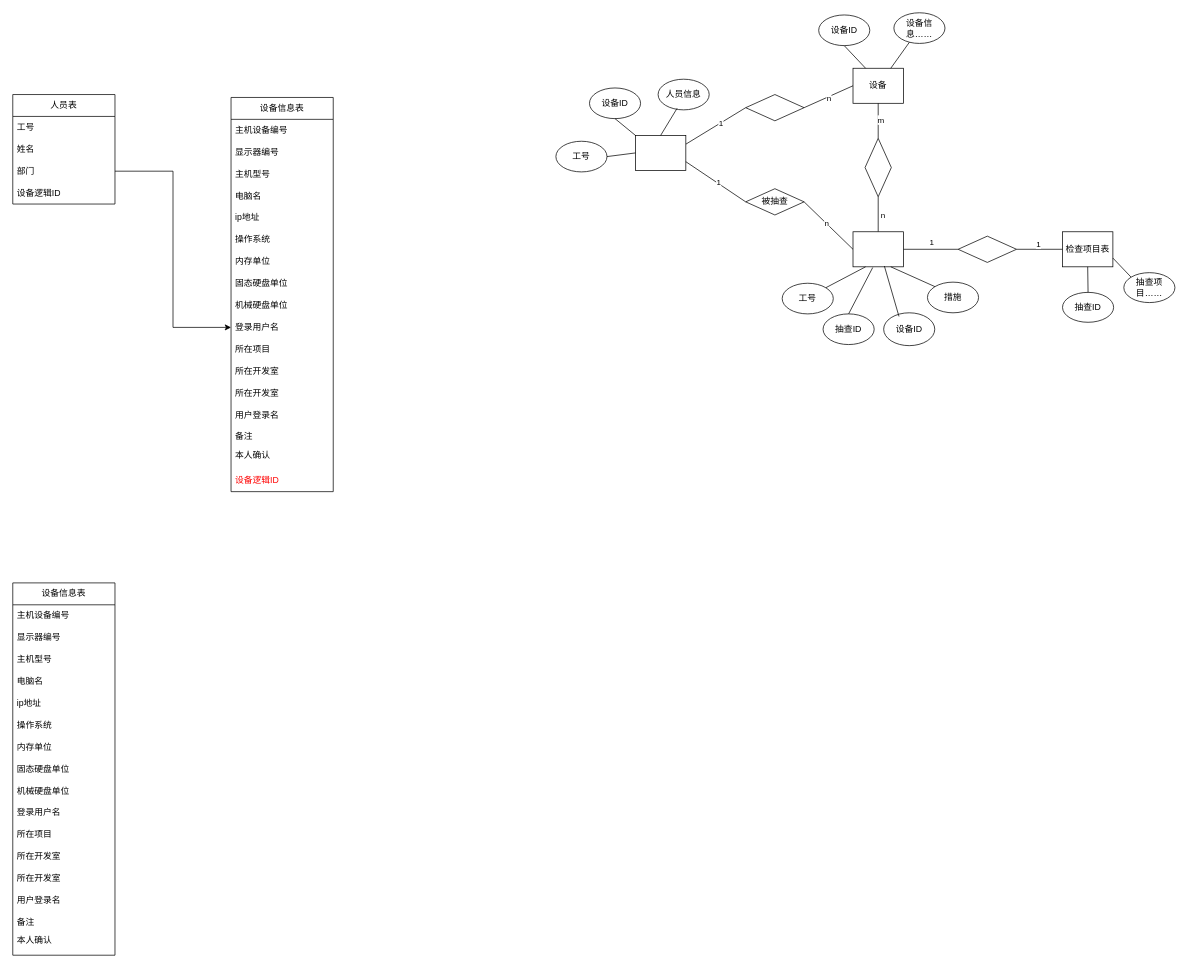
This 1188x968 diagram has some shape labels left out. Each missing label, with the centre of its shape:
"人员" belongs at (660,152).
"包含" belongs at (987,248).
"抽查" belongs at (877,167).
"拥有" belongs at (774,107).
"检查" belongs at (877,249).
